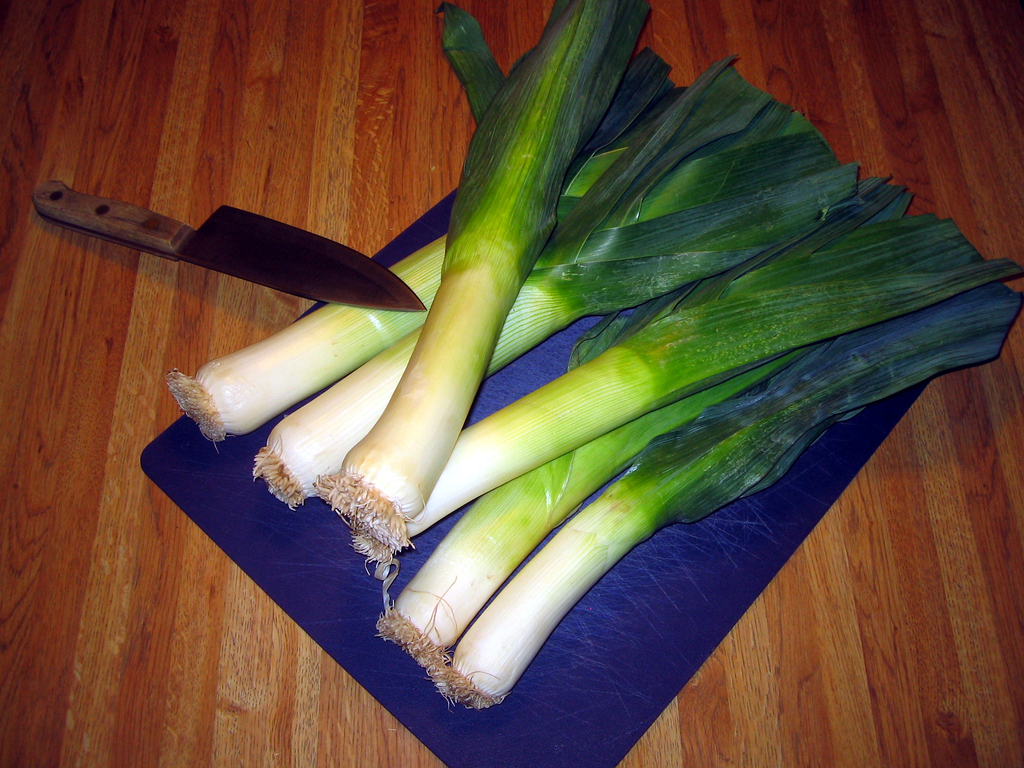knife: (32, 180, 427, 312)
